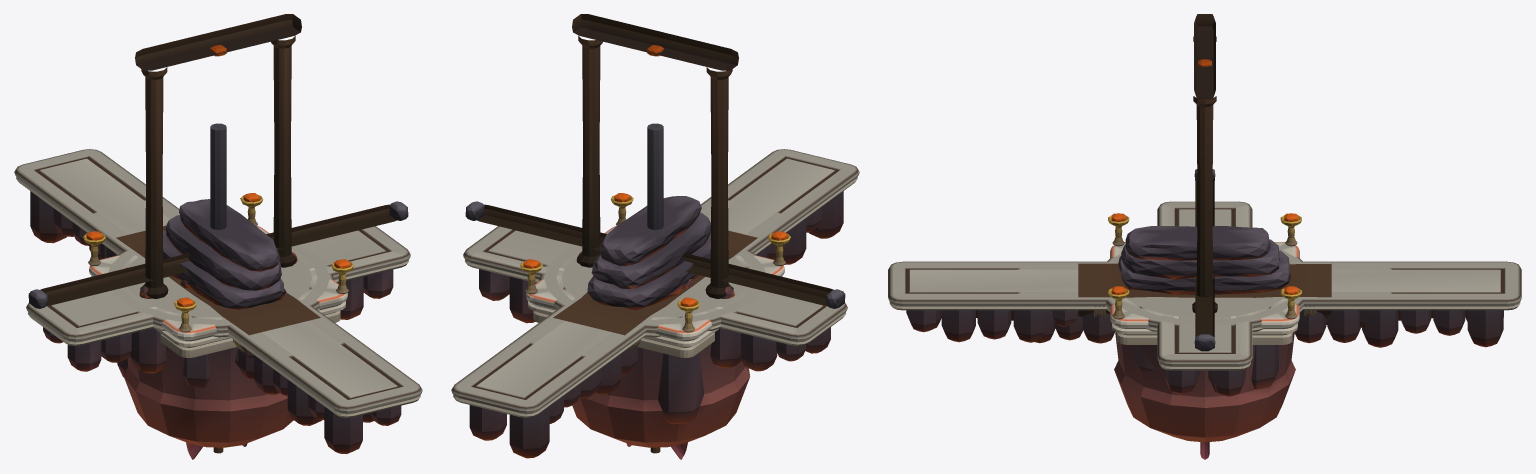
Rendered from volcano-5-BEnDAgI1.glb.
3 views of the same model, side by side, from view 1: azimuth 30°, elevation 25°; view 2: azimuth 150°, elevation 25°; view 3: azimuth 270°, elevation 25° (orthographic). The views are drawn at different scales.
Visible parts, largest first — view 1: block_6x2x40#0, disc_14x1.5#0, block_24x2x6#0, pressFrame_7x6x4x7#0, spout_2x8#0, pad_12x2x12#0, mount_12.5#0, beam_5x1.5x16_plank#0, press_7x6x4#0, block_5x2x24#0; view 2: block_6x2x40#0, disc_14x1.5#0, block_24x2x6#0, pressFrame_7x6x4x7#0, spout_2x8#0, pad_12x2x12#0, mount_12.5#0, beam_5x1.5x16_plank#0, press_7x6x4#0, block_5x2x24#0; view 3: block_6x2x40#0, disc_14x1.5#0, spout_2x8#0, block_24x2x6#0, pad_12x2x12#0, pressFrame_7x6x4x7#0, beam_5x1.5x16_plank#0, block_5x2x24#0, mount_12.5#0.
Part boxes in pixels (<box>): block_6x2x40#0: <box>14,149,422,453</box>; disc_14x1.5#0: <box>108,245,334,447</box>; block_24x2x6#0: <box>26,226,410,373</box>; pressFrame_7x6x4x7#0: <box>135,14,301,298</box>; spout_2x8#0: <box>163,199,286,309</box>; pad_12x2x12#0: <box>83,193,353,387</box>; mount_12.5#0: <box>28,201,408,308</box>; beam_5x1.5x16_plank#0: <box>116,225,320,352</box>; press_7x6x4#0: <box>210,123,226,229</box>; block_5x2x24#0: <box>93,200,344,379</box>; block_6x2x40#0: <box>451,149,859,458</box>; disc_14x1.5#0: <box>539,245,765,447</box>; block_24x2x6#0: <box>463,226,847,371</box>; pressFrame_7x6x4x7#0: <box>572,14,738,298</box>; spout_2x8#0: <box>587,196,710,310</box>; pad_12x2x12#0: <box>520,193,790,424</box>; mount_12.5#0: <box>465,201,845,308</box>; beam_5x1.5x16_plank#0: <box>553,230,757,350</box>; press_7x6x4#0: <box>647,123,663,229</box>; block_5x2x24#0: <box>529,200,780,389</box>; block_6x2x40#0: <box>888,261,1521,347</box>; disc_14x1.5#0: <box>1105,248,1304,442</box>; spout_2x8#0: <box>1118,226,1290,294</box>; block_24x2x6#0: <box>1157,201,1252,396</box>; pad_12x2x12#0: <box>1108,213,1301,389</box>; pressFrame_7x6x4x7#0: <box>1192,14,1217,312</box>; beam_5x1.5x16_plank#0: <box>1077,263,1331,317</box>; block_5x2x24#0: <box>1016,267,1393,343</box>; mount_12.5#0: <box>1194,169,1215,351</box>.
Bounding box in the file's own units: 25.9 × 27.75 × 40.
